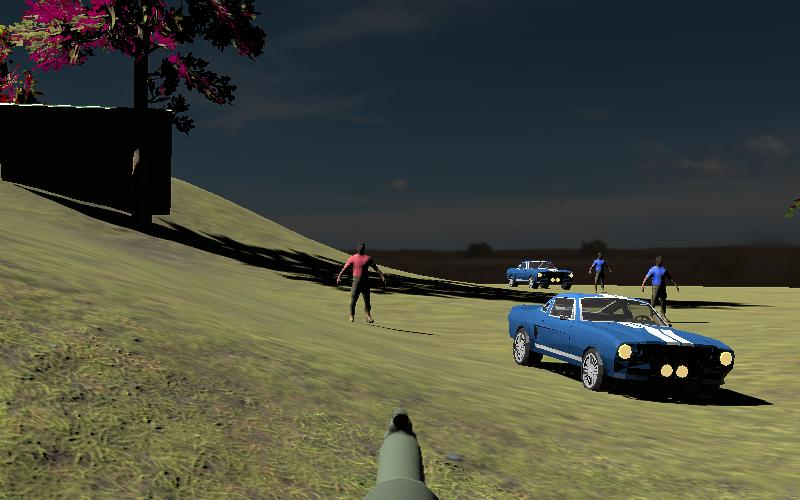Human: (336, 241, 386, 324), (642, 255, 678, 323), (589, 251, 612, 295)
car: (509, 292, 736, 399), (506, 258, 575, 290)
